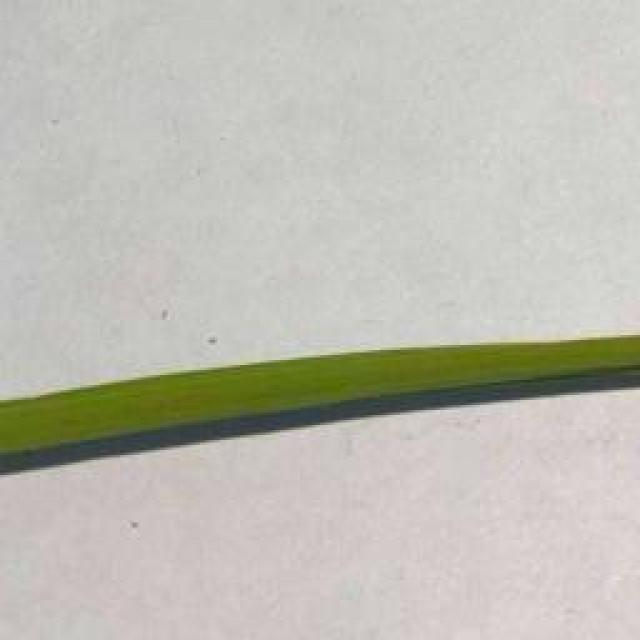Healthy-Plant: (0, 326, 640, 486)
